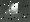person: (7, 5, 18, 18)
